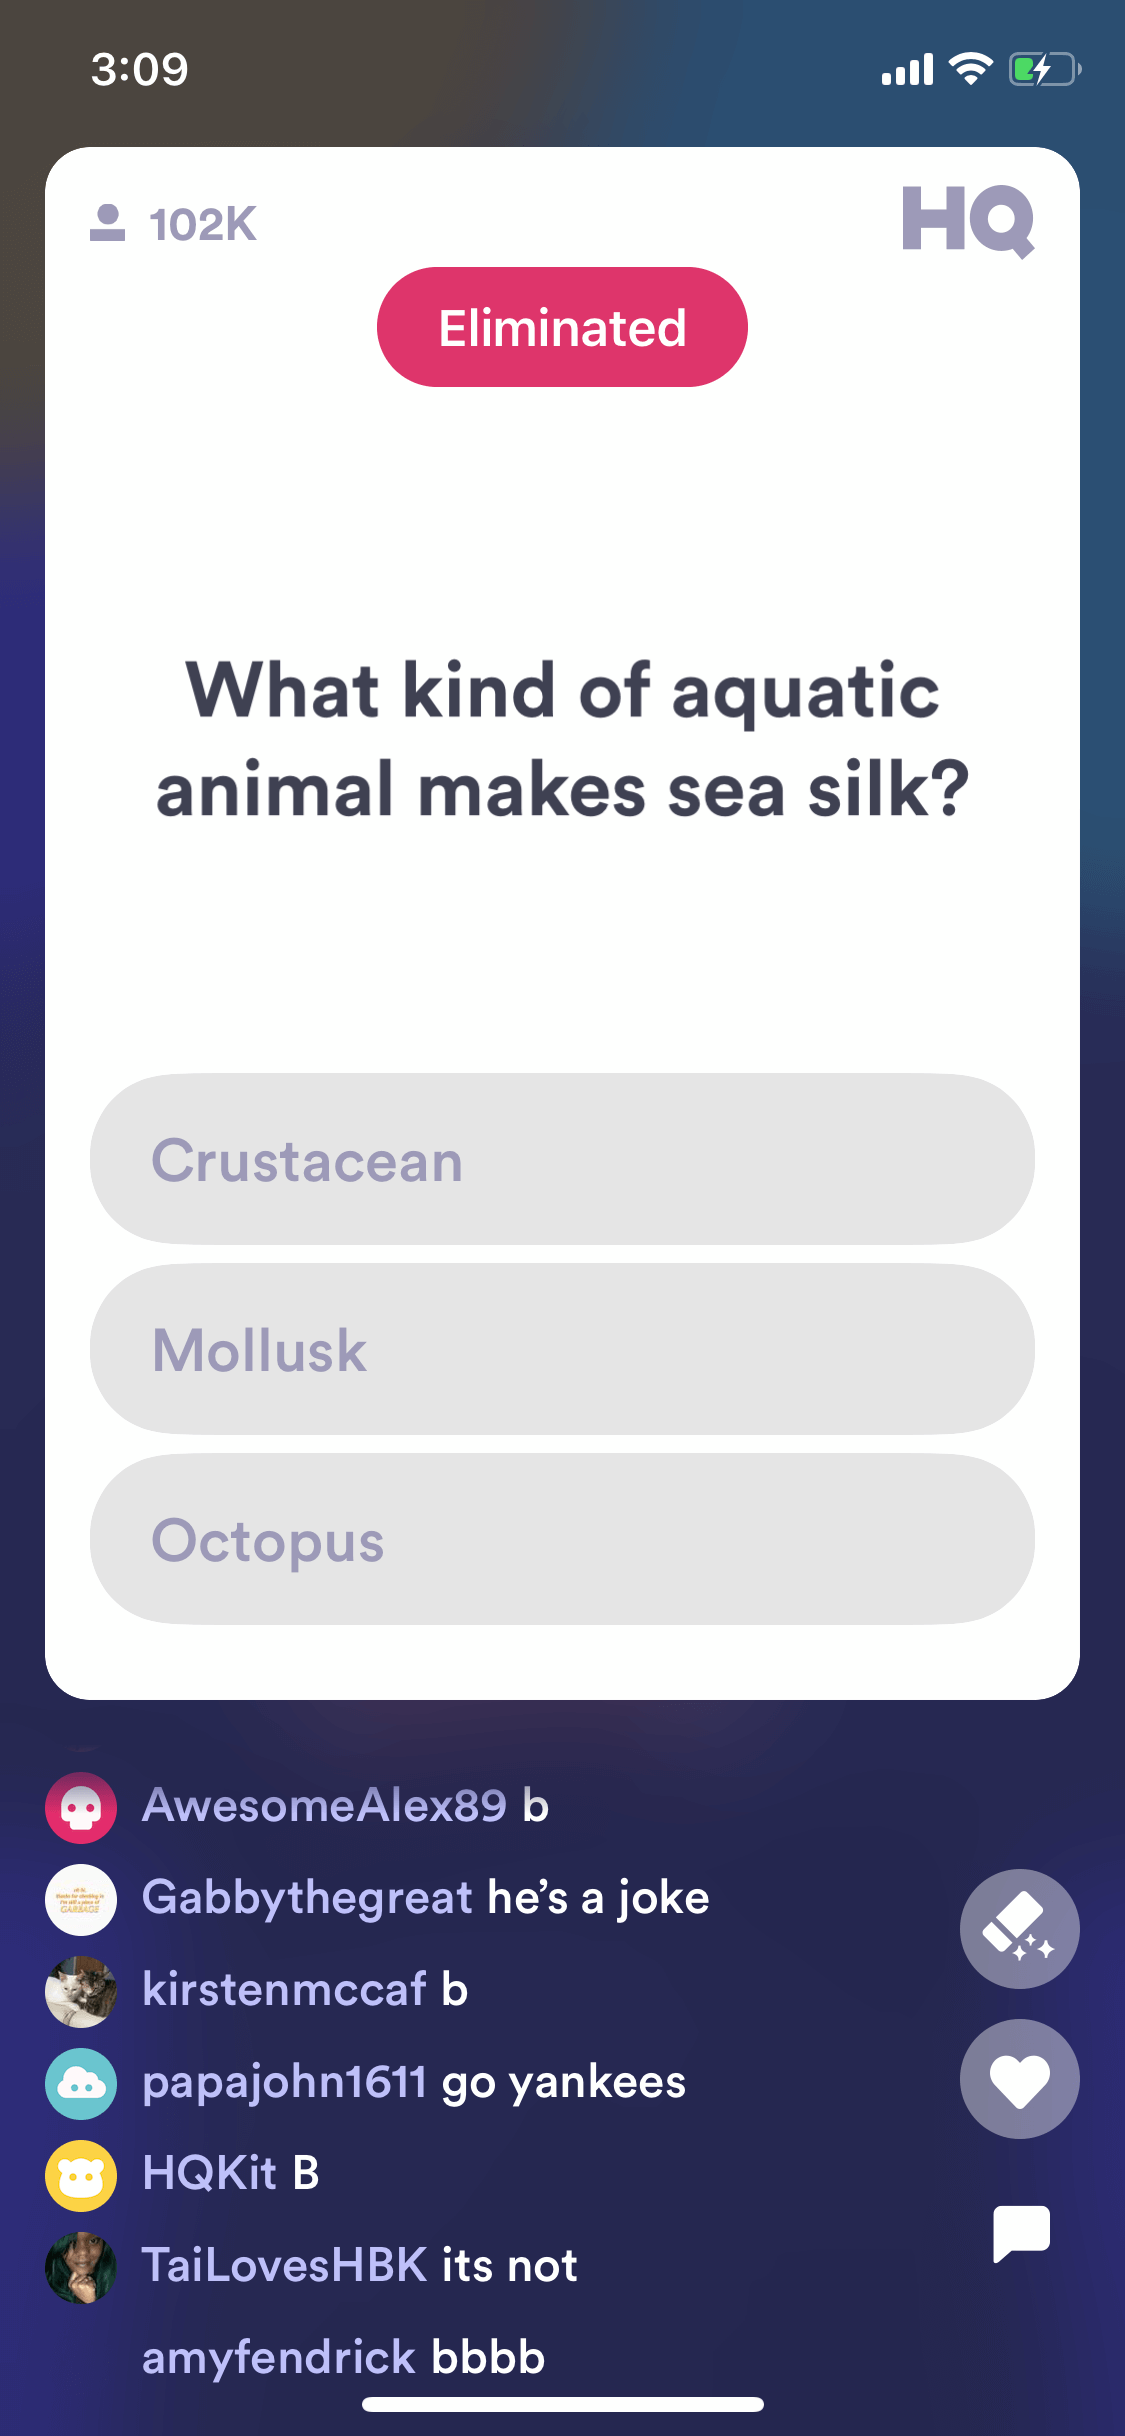Buttons: (87, 1244, 1036, 1446), (82, 1064, 1036, 1255), (92, 1446, 1029, 1634), (362, 258, 758, 398)
FAB (Floating Action Button): (953, 1853, 1088, 1999), (949, 2009, 1088, 2149), (951, 2164, 1089, 2296)
